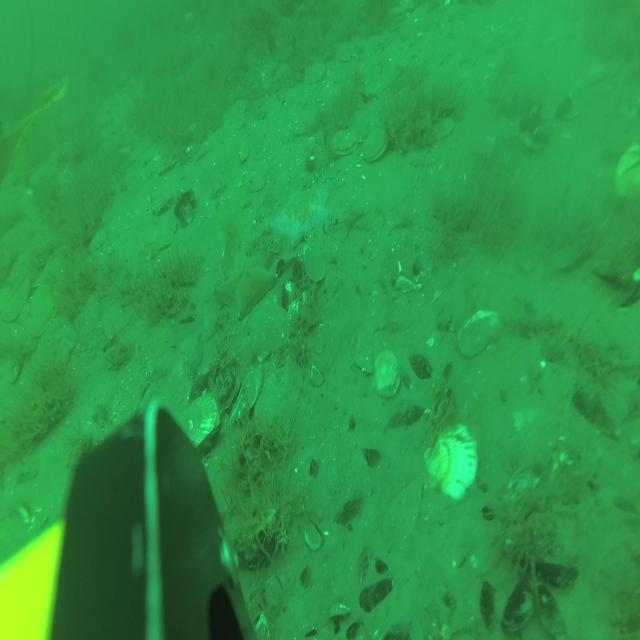scallop: (424, 417, 476, 498), (168, 394, 220, 459), (458, 311, 502, 358), (109, 380, 141, 434), (614, 138, 640, 200), (372, 348, 400, 400), (360, 127, 388, 163), (329, 125, 363, 154)
starfish: (217, 250, 278, 319), (268, 182, 330, 245)
